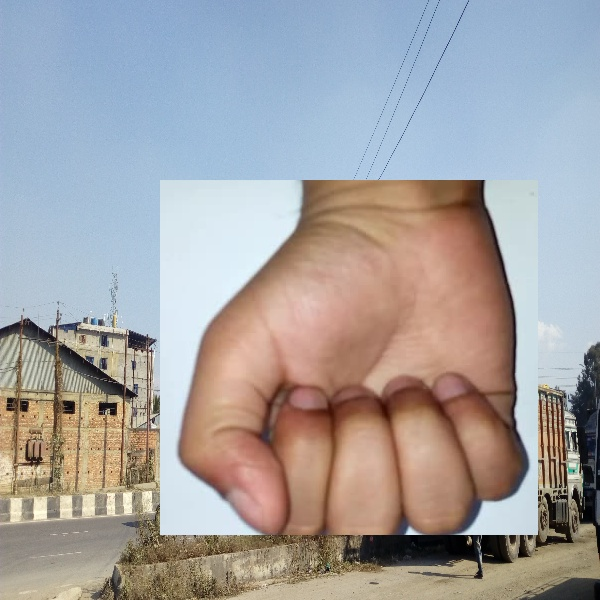A: (160, 180, 538, 535)
